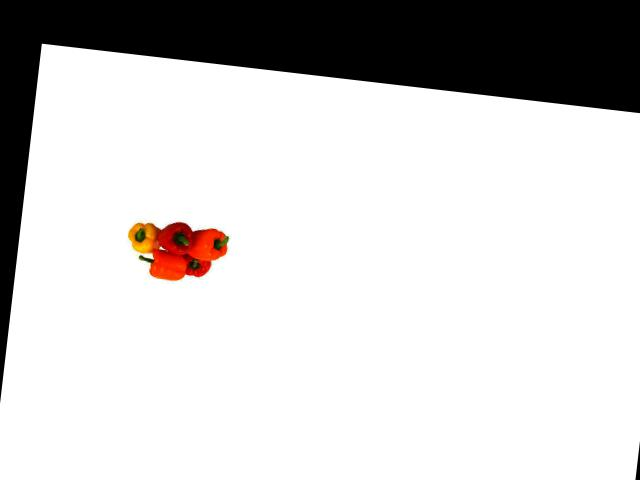bell_pepper: (185, 222, 238, 267)
